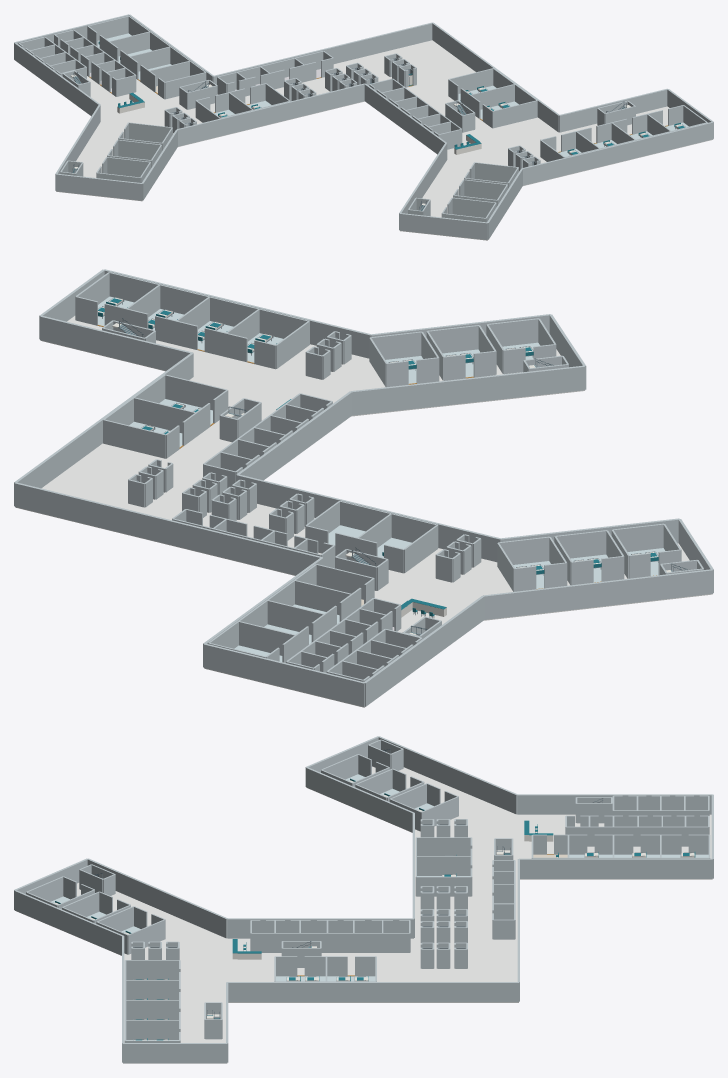
Rendered from dushu-F7.glb.
3 views of the same model, one above another, from view 1: azimuth 30°, elevation 25°; view 2: azimuth 150°, elevation 25°; view 3: azimuth 270°, elevation 25° (orthographic). The views are drawn at different scales.
Visible parts, largest first — view 1: Floor slab, wall-6, wall-11, wall-2, wall-8, wall-13, wall-3, wall-15, wall-10, wall-4, wall-90, wall-9 (+20 smaller); view 2: Floor slab, wall-2, wall-9, wall-14, wall-0, wall-4, wall-15, wall-11, wall-10, wall-3, wall-84, wall-6 (+25 smaller); view 3: Floor slab, wall-3, wall-1, wall-9, wall-14, wall-7, wall-12, wall-5, wall-15, wall-10, wall-77, wall-95 (+19 smaller).
Boxes of the visible parts, left/top/right/bottom form: Floor slab: left=56, top=40, right=712, bottom=240; wall-6: left=522, top=122, right=713, bottom=185; wall-11: left=177, top=83, right=364, bottom=146; wall-2: left=213, top=22, right=432, bottom=84; wall-8: left=399, top=213, right=487, bottom=239; wall-13: left=56, top=173, right=142, bottom=200; wall-3: left=432, top=22, right=559, bottom=132; wall-15: left=14, top=42, right=100, bottom=115; wall-10: left=364, top=83, right=446, bottom=154; wall-4: left=559, top=88, right=667, bottom=132; wall-90: left=492, top=100, right=537, bottom=128; wall-9: left=399, top=143, right=447, bottom=229; Floor slab: left=15, top=316, right=712, bottom=707; wall-2: left=14, top=482, right=322, bottom=575; wall-9: left=350, top=365, right=585, bottom=415; wall-14: left=483, top=569, right=712, bottom=619; wall-0: left=203, top=643, right=364, bottom=706; wall-4: left=40, top=315, right=192, bottom=370; wall-15: left=364, top=595, right=484, bottom=706; wall-11: left=236, top=474, right=500, bottom=562; wall-10: left=236, top=391, right=351, bottom=481; wall-3: left=14, top=352, right=193, bottom=505; wall-84: left=103, top=419, right=165, bottom=458; wall-6: left=103, top=269, right=371, bottom=358; Floor slab: left=15, top=766, right=712, bottom=1063; wall-3: left=227, top=982, right=518, bottom=1002; wall-1: left=519, top=858, right=712, bottom=878; wall-9: left=87, top=858, right=227, bottom=938; wall-14: left=378, top=736, right=517, bottom=814; wall-7: left=14, top=890, right=123, bottom=955; wall-12: left=305, top=767, right=414, bottom=832; wall-5: left=123, top=1043, right=227, bottom=1063; wall-15: left=517, top=794, right=712, bottom=814; wall-10: left=227, top=918, right=413, bottom=938; wall-77: left=416, top=856, right=471, bottom=875; wall-95: left=125, top=980, right=179, bottom=999.
Size of the model in its own units: 109 by 4.15 by 105.
